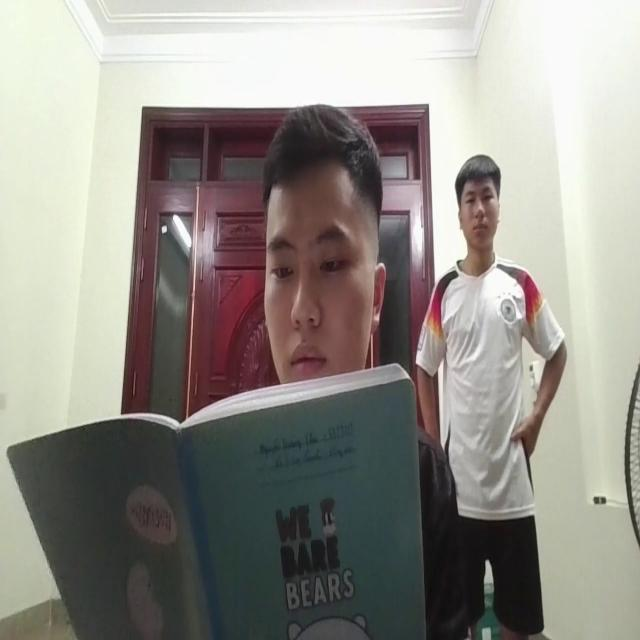book: (8, 374, 421, 640)
extra_person: (423, 153, 560, 627)
student: (262, 101, 377, 376)
